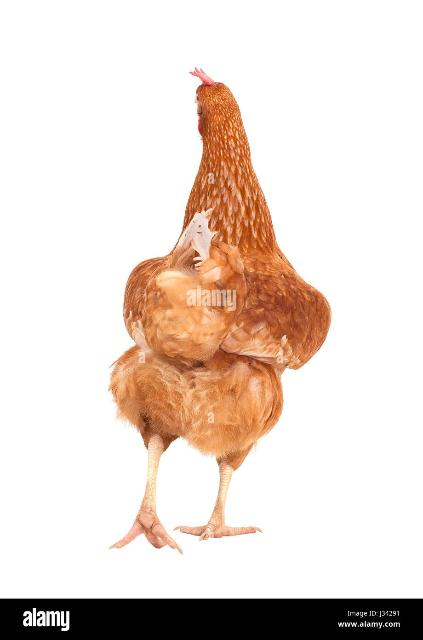Chicken: (112, 65, 331, 553)
